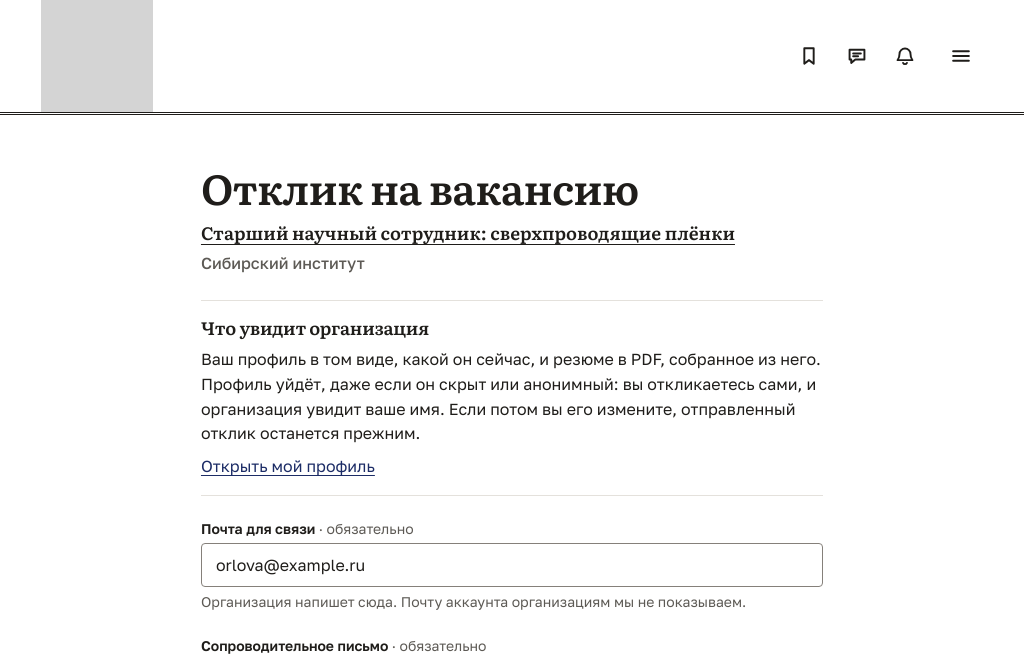
Scenario: apply page › checks the contact and the letter before sending
The width and height of the screenshot is (1024, 656).
Clear the field labelled "Почта для связи · обязательно": (512, 565) [201,543,823,587]
(page scrolled)
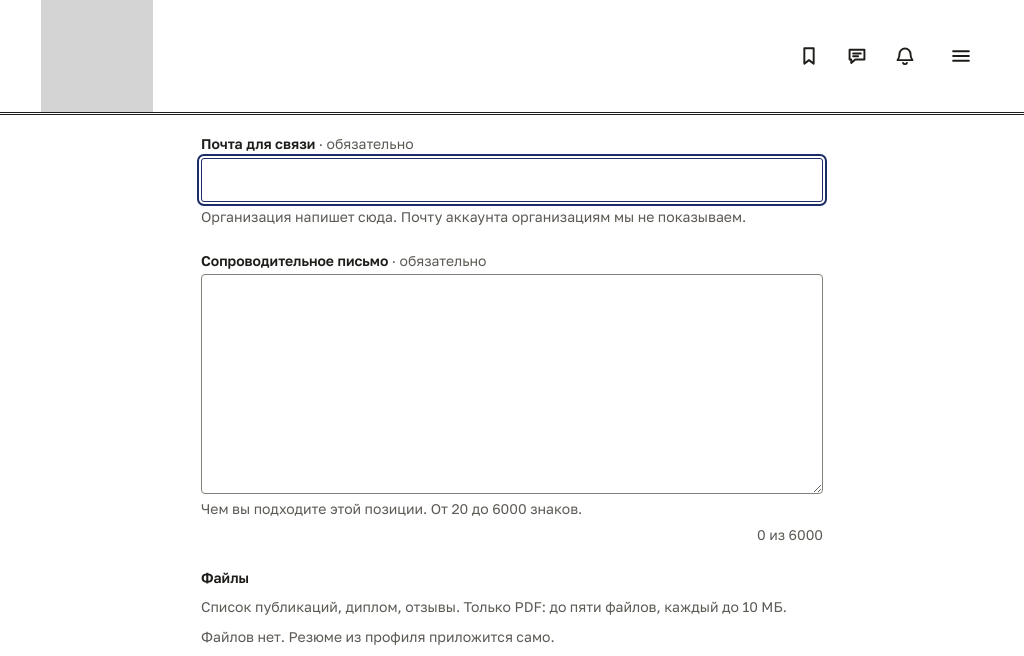
In the text box labelled "Сопроводительное письмо · обязательно": (512, 384) [201,274,823,494], type "коротко"
(page scrolled)
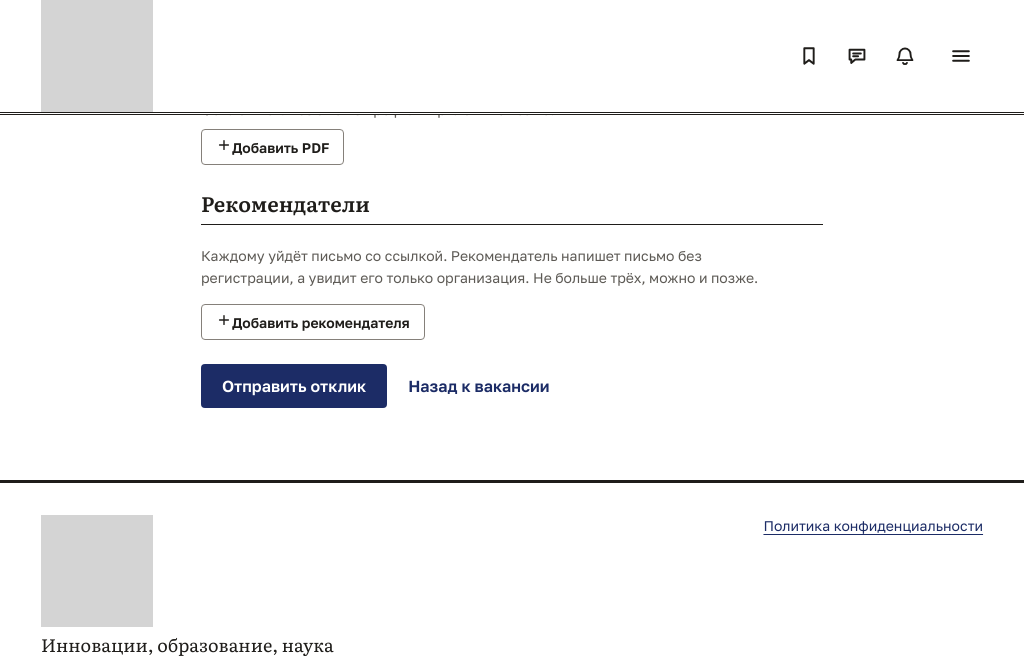
Click the button "Отправить отклик": (294, 386) [201,364,387,408]
(page scrolled)
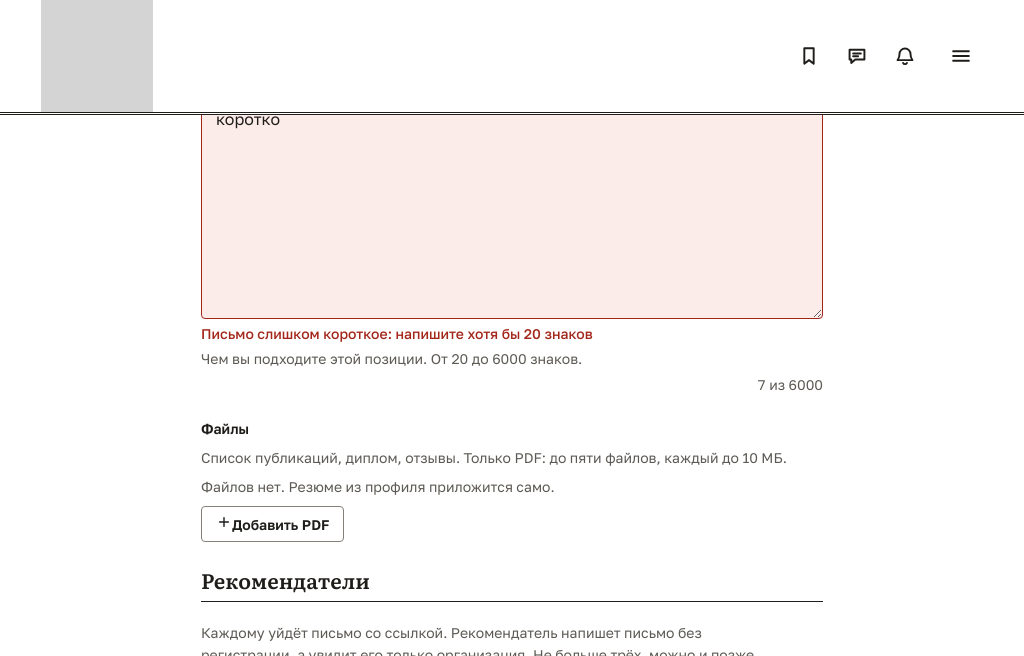
Check: the text "7 из 6000" is shown, box [757,374,823,396]
Check: the text "Письмо слишком короткое: напишите хотя бы 20 знаков" is shown, box [201,325,593,342]
